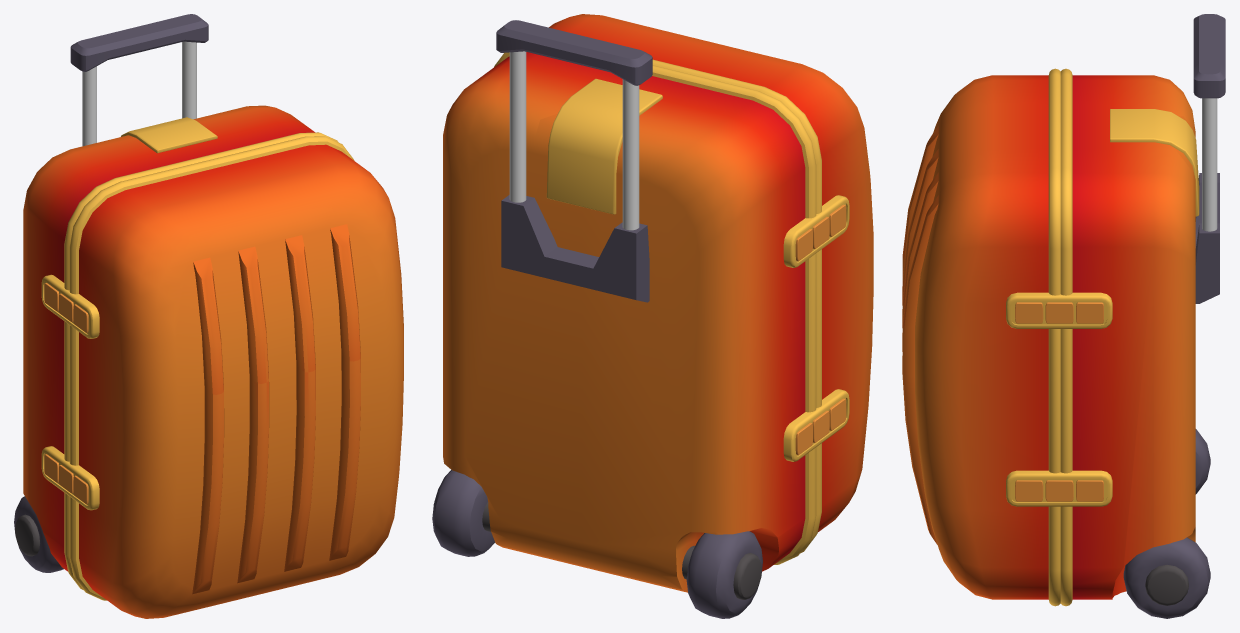
The model's file is Baggage_Orange.fbx.
The picture shows the model from 3 angles, left to right: view 1: azimuth 30°, elevation 25°; view 2: azimuth 150°, elevation 25°; view 3: azimuth 270°, elevation 25°; orthographic projection. The views are drawn at different scales.
Parts seen in each view (by area): view 1: Baggage_Orange; view 2: Baggage_Orange; view 3: Baggage_Orange.
Part boxes in pixels (box(x1,y1,x2,y2)): Baggage_Orange: box(14, 14, 403, 618); Baggage_Orange: box(432, 14, 873, 618); Baggage_Orange: box(902, 14, 1225, 618).
Bounding box in the file's own units: 66.35 × 107 × 61.04.
